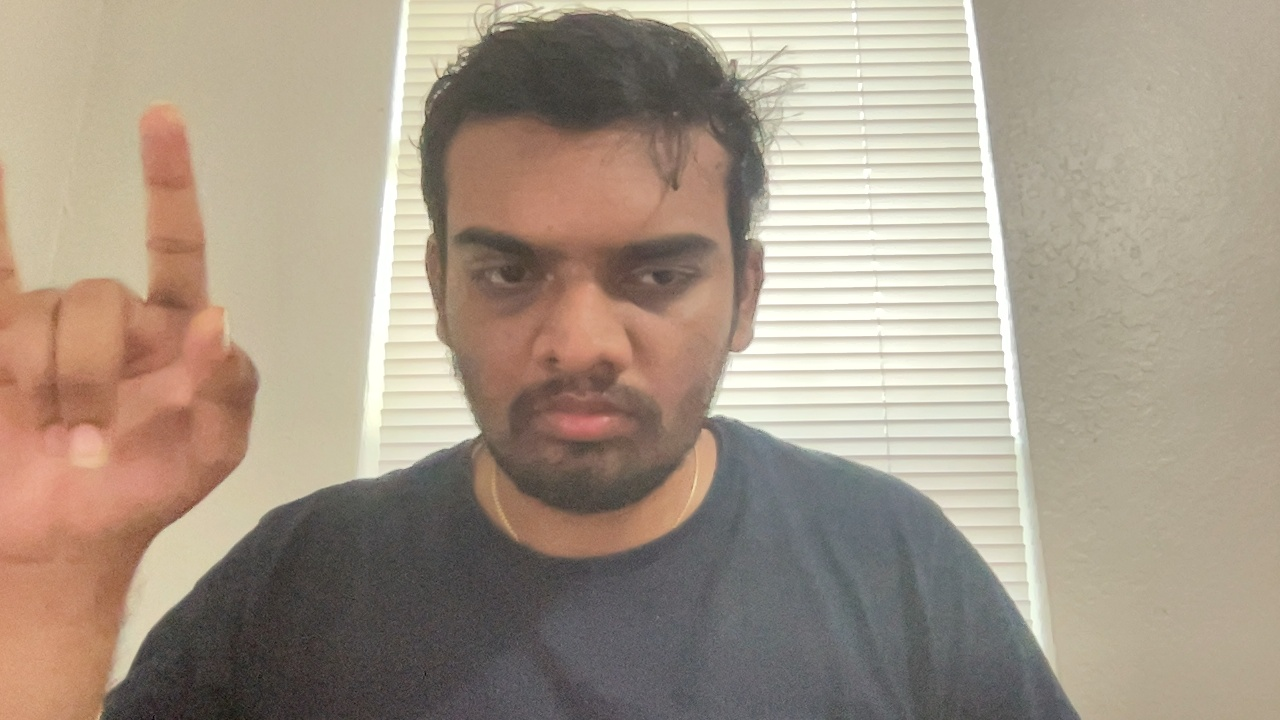i love you: (1, 93, 263, 573)
